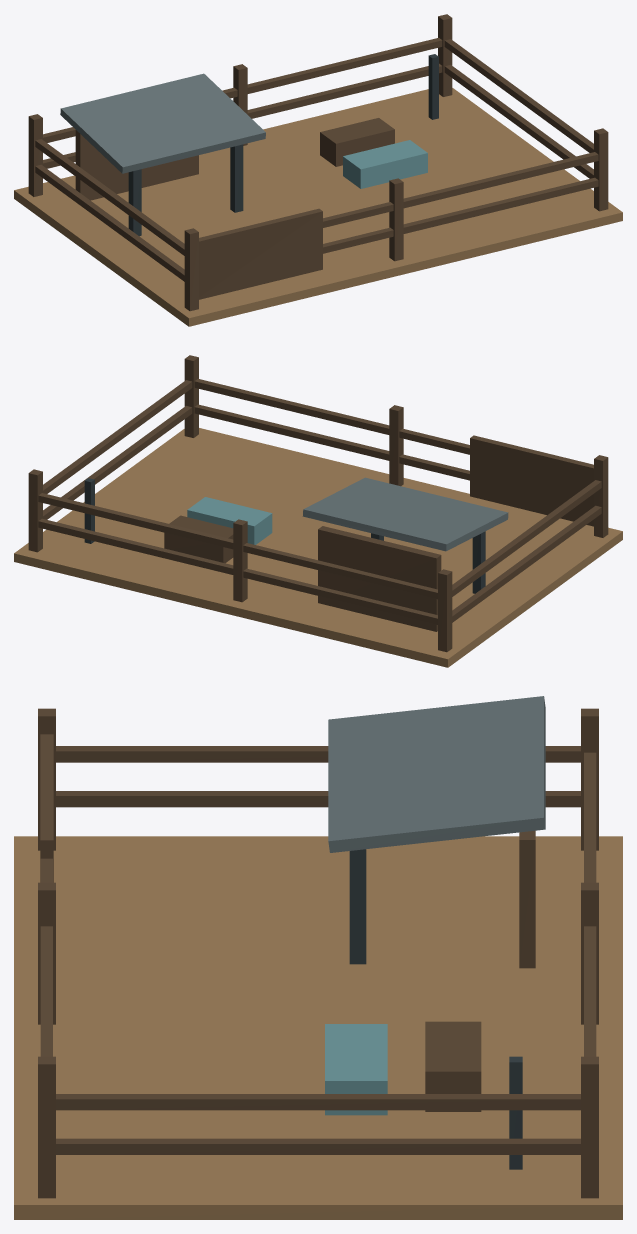
Rendered from Horse-Paddock.glb.
3 renders of one model, top to bottom at view 1: azimuth 30°, elevation 25°; view 2: azimuth 150°, elevation 25°; view 3: azimuth 270°, elevation 25°, orthographic. The views are drawn at different scales.
Visible parts, largest first — view 1: wind-pump-static-horse-paddock-packed-earth, wind-pump-static-horse-paddock-dark-timber, wind-pump-static-horse-paddock-galvanized-roof, wind-pump-static-horse-paddock-water-trough, wind-pump-static-horse-paddock-dark-iron; view 2: wind-pump-static-horse-paddock-packed-earth, wind-pump-static-horse-paddock-dark-timber, wind-pump-static-horse-paddock-galvanized-roof, wind-pump-static-horse-paddock-water-trough, wind-pump-static-horse-paddock-dark-iron; view 3: wind-pump-static-horse-paddock-packed-earth, wind-pump-static-horse-paddock-dark-timber, wind-pump-static-horse-paddock-galvanized-roof, wind-pump-static-horse-paddock-water-trough, wind-pump-static-horse-paddock-dark-iron.
Boxes of the visible parts, x1,y1,x2,y2 form: wind-pump-static-horse-paddock-packed-earth: [14, 88, 622, 326]; wind-pump-static-horse-paddock-dark-timber: [28, 14, 608, 311]; wind-pump-static-horse-paddock-galvanized-roof: [60, 73, 265, 173]; wind-pump-static-horse-paddock-water-trough: [343, 140, 427, 188]; wind-pump-static-horse-paddock-dark-iron: [128, 54, 438, 236]; wind-pump-static-horse-paddock-packed-earth: [14, 428, 622, 667]; wind-pump-static-horse-paddock-dark-timber: [28, 355, 608, 652]; wind-pump-static-horse-paddock-galvanized-roof: [302, 477, 508, 551]; wind-pump-static-horse-paddock-water-trough: [187, 497, 272, 544]; wind-pump-static-horse-paddock-dark-iron: [84, 478, 485, 593]; wind-pump-static-horse-paddock-packed-earth: [14, 836, 622, 1219]; wind-pump-static-horse-paddock-dark-timber: [38, 708, 598, 1198]; wind-pump-static-horse-paddock-galvanized-roof: [328, 696, 545, 852]; wind-pump-static-horse-paddock-water-trough: [325, 1024, 387, 1115]; wind-pump-static-horse-paddock-dark-iron: [349, 849, 522, 1169].
Bounding box in the file's own units: 5.3 × 1.18 × 3.7.
